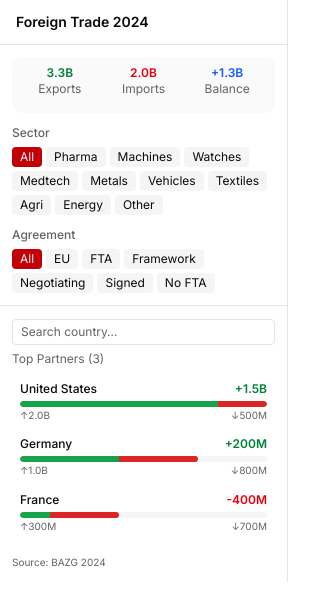
Test: TradeSidebar › filters the partner list by search text
The width and height of the screenshot is (320, 599).
In the search field: (144, 332) [12,319,275,345], type "united"
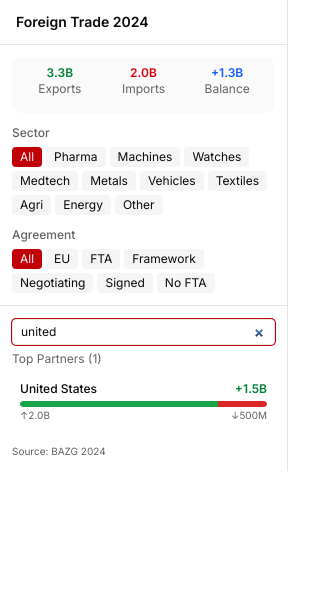
Expected: the text "Top Partners (1)" is shown, [12,351,102,367]
Replace the text in the search field with "zzz": (144, 332) [12,319,275,345]
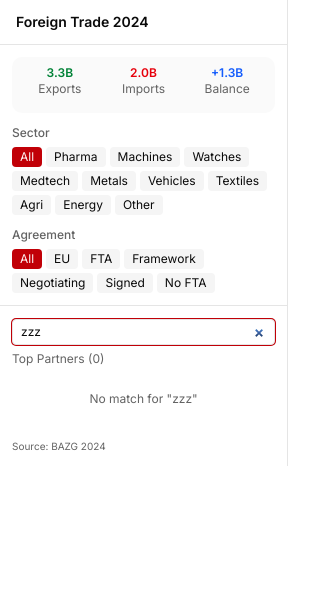
Expected: the text "No match for \"zzz\"" is shown, [89,391,198,406]
